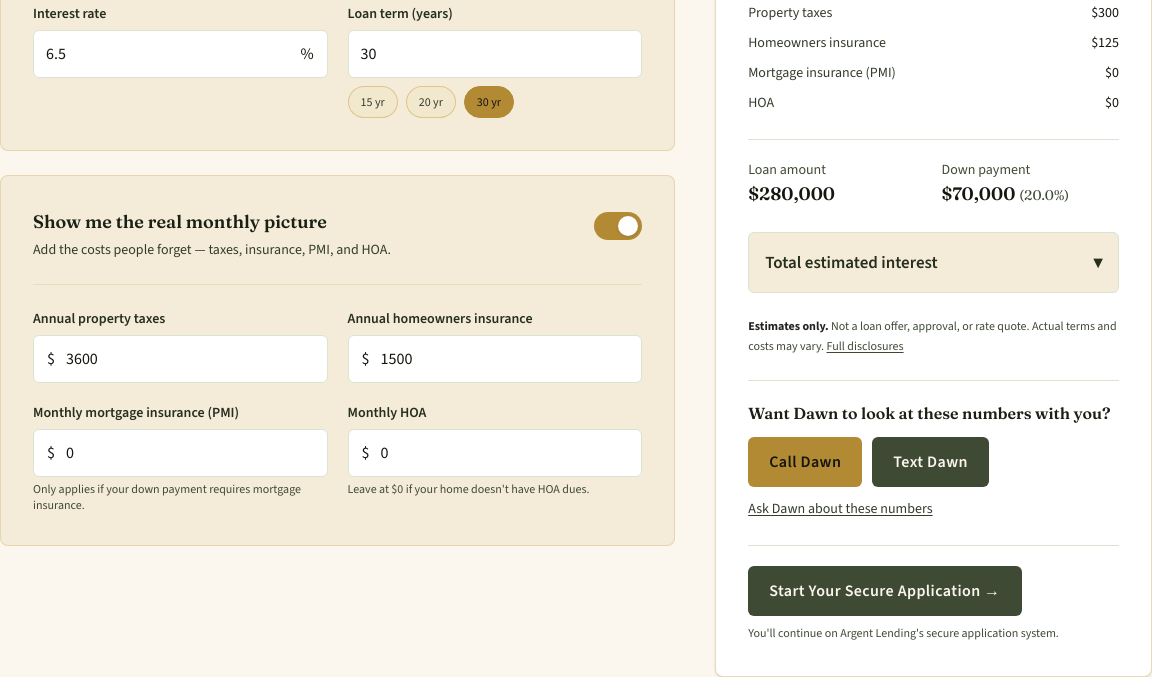
Test: HomePaymentCalculator › 'Ask Dawn about these numbers' opens Ask Dawn with a generic question and never includes the entered dollar figures
This screenshot has width=1152, height=677.
(page scrolled)
Click the button "Ask Dawn about these numbers" at (840, 509), box x1=748 y1=499 x2=933 y2=519
(page scrolled)
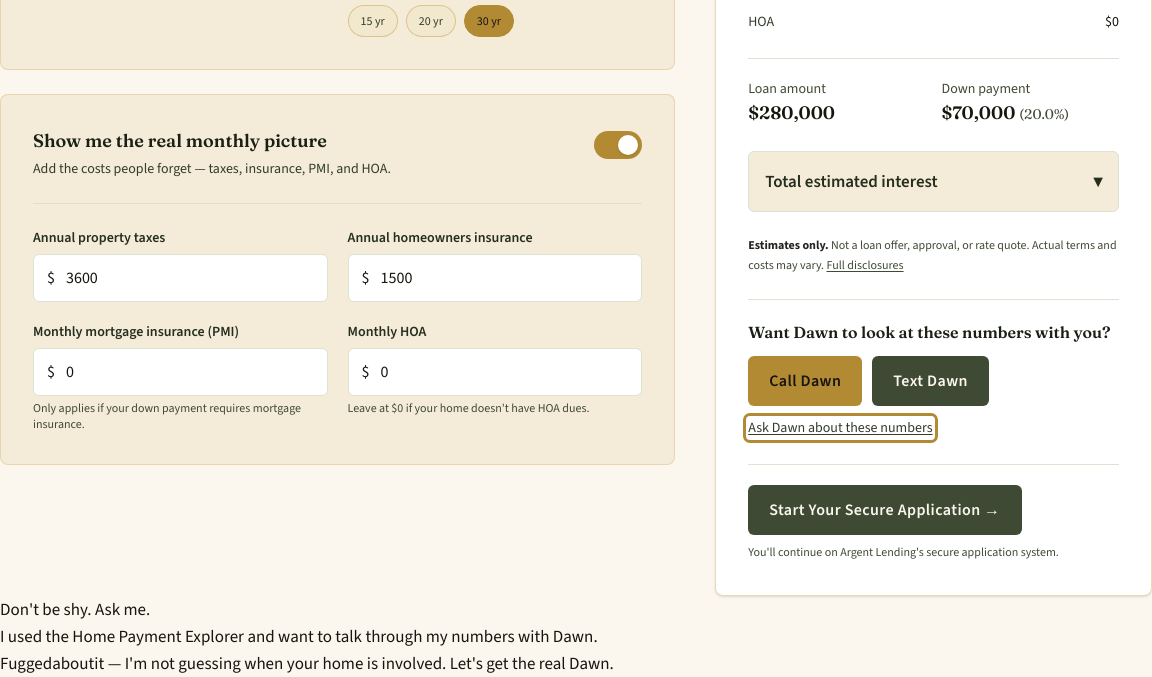
Expected: the text "talk through my numbers with Dawn" is shown, x1=0 y1=625 x2=598 y2=648
